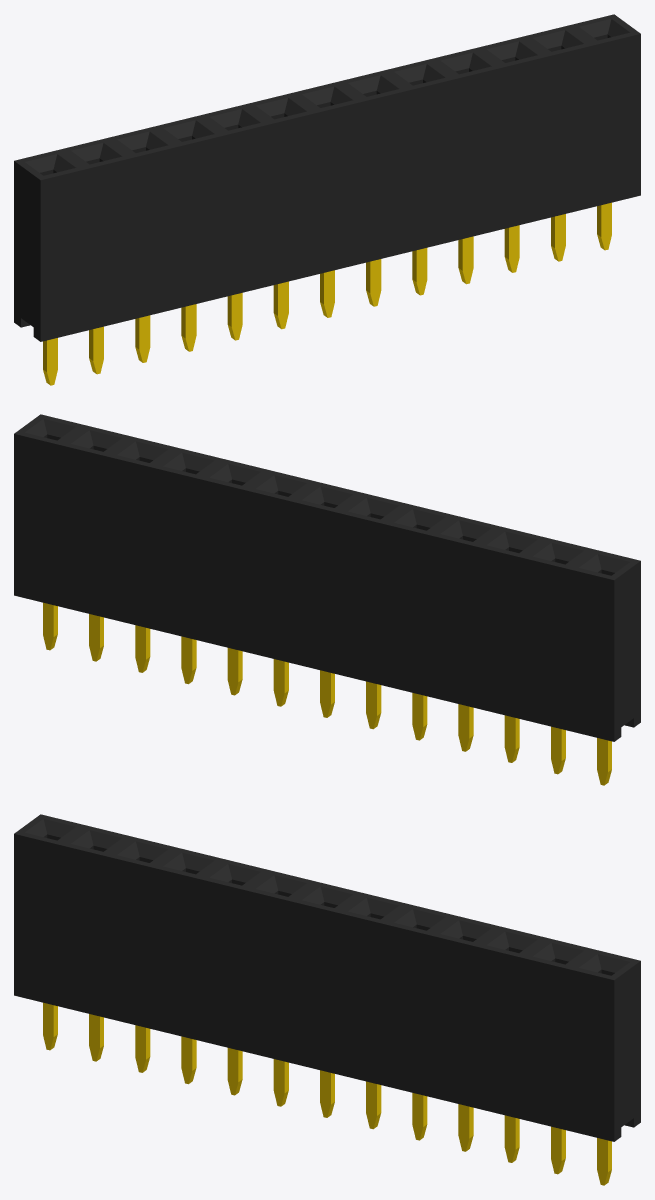
File: PBS13.glb
3 views of the same model, one above another, from view 1: azimuth 30°, elevation 25°; view 2: azimuth 150°, elevation 25°; view 3: azimuth 330°, elevation 25° (orthographic).
Visible parts, largest first — view 1: PBS (DS1023 CONNFLY); view 2: PBS (DS1023 CONNFLY); view 3: PBS (DS1023 CONNFLY).
Boxes of the visible parts, x1,y1,x2,y2 form: PBS (DS1023 CONNFLY): [14, 14, 640, 385]; PBS (DS1023 CONNFLY): [14, 414, 640, 785]; PBS (DS1023 CONNFLY): [14, 814, 640, 1185].
Bounding box in the file's own units: 0.033 × 0.0115 × 0.00254.
